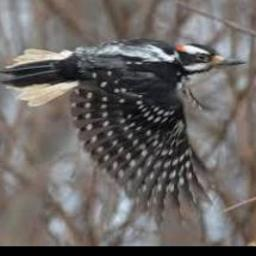Woodpecker: (0, 37, 245, 222)
